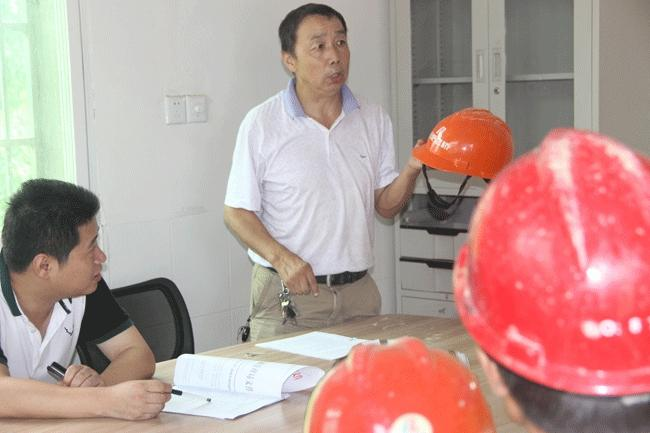helmet: (451, 132, 650, 392), (308, 336, 486, 433), (414, 107, 516, 178)
